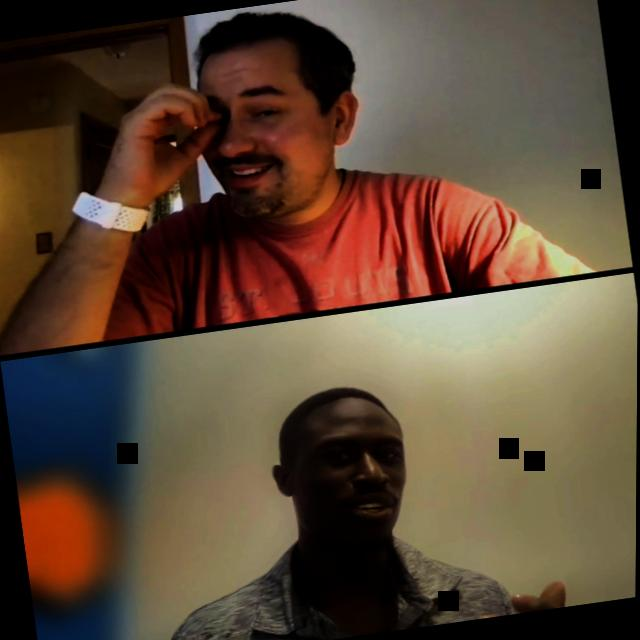NO-Mask: (181, 0, 374, 227), (263, 379, 420, 564)
